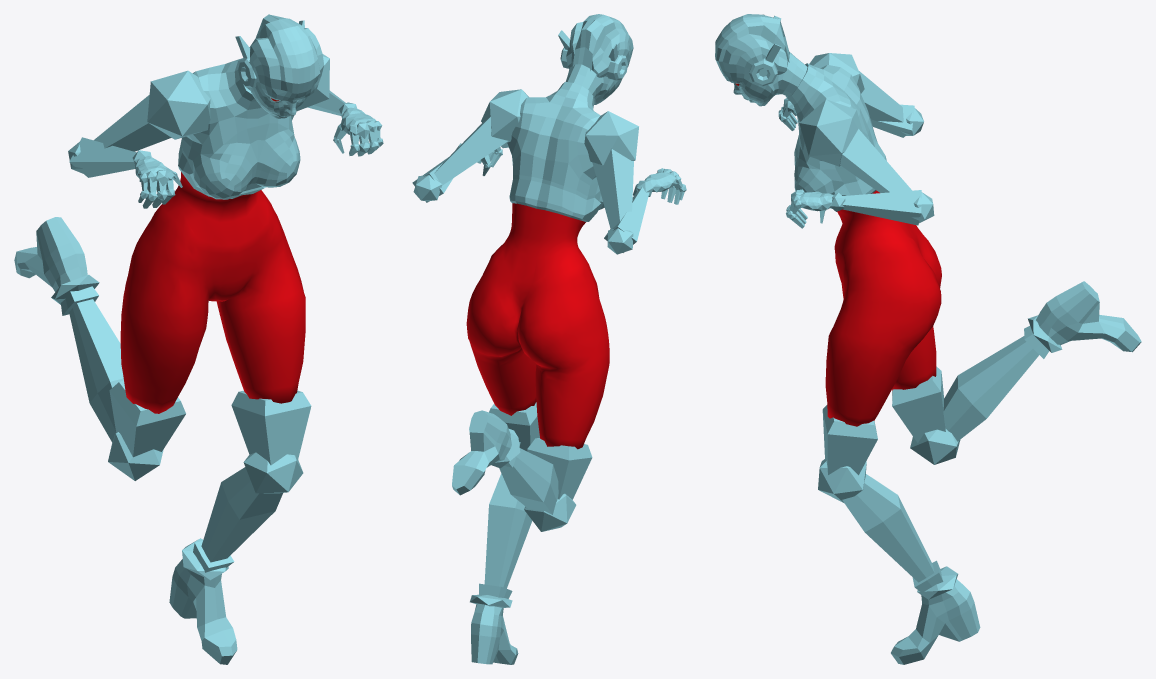
File: Caroline_mesh_lookingOver_statue.fbx
3 renders of one model, left to right at view 1: azimuth 30°, elevation 25°; view 2: azimuth 150°, elevation 25°; view 3: azimuth 270°, elevation 25°, orthographic. The views are drawn at different scales.
Visible parts, largest first — view 1: Caroline_mesh_lookingOver_statue; view 2: Caroline_mesh_lookingOver_statue; view 3: Caroline_mesh_lookingOver_statue.
Boxes of the visible parts, <box> form: Caroline_mesh_lookingOver_statue: <box>14,14,383,664</box>; Caroline_mesh_lookingOver_statue: <box>412,14,686,664</box>; Caroline_mesh_lookingOver_statue: <box>715,14,1141,664</box>.
Bounding box in the file's own units: 1456 × 3848 × 2339.
